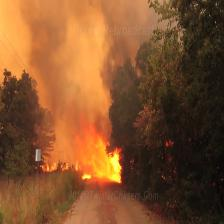fire: (34, 98, 156, 200)
smoke: (0, 0, 197, 95)
